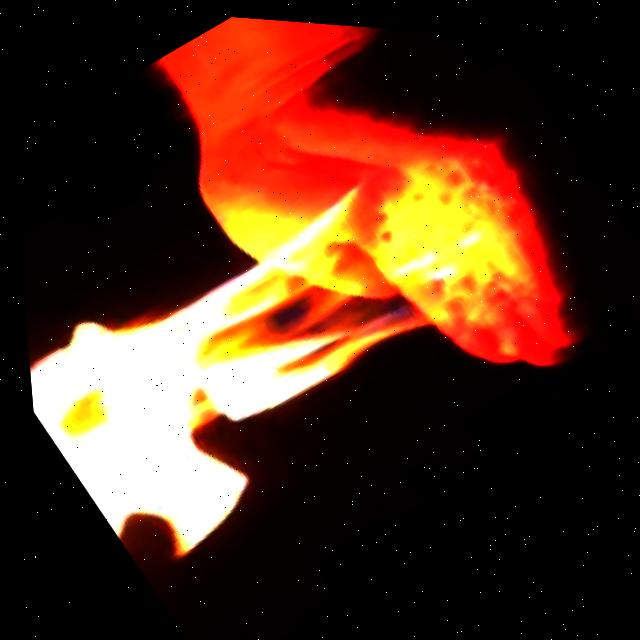Fire: (6, 95, 564, 606)
